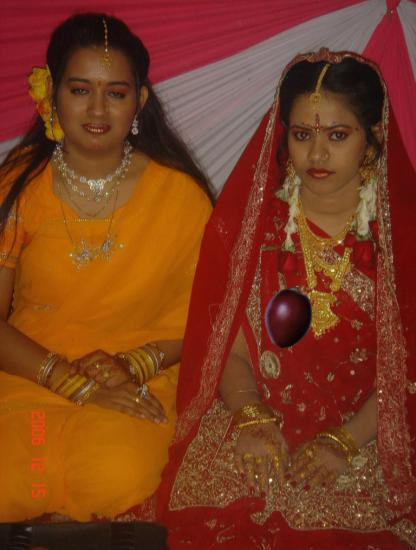Tamarillo: (257, 285, 321, 349)
